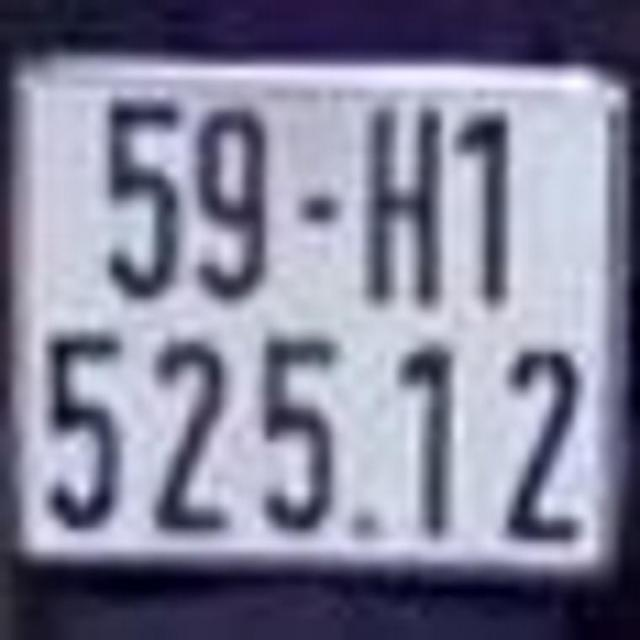1: (459, 108, 509, 304), (401, 346, 455, 525)
2: (156, 338, 234, 532), (508, 345, 582, 537)
5: (43, 329, 130, 529), (108, 98, 184, 297), (259, 338, 336, 529)
9: (197, 105, 264, 297)
H: (366, 111, 444, 308)
